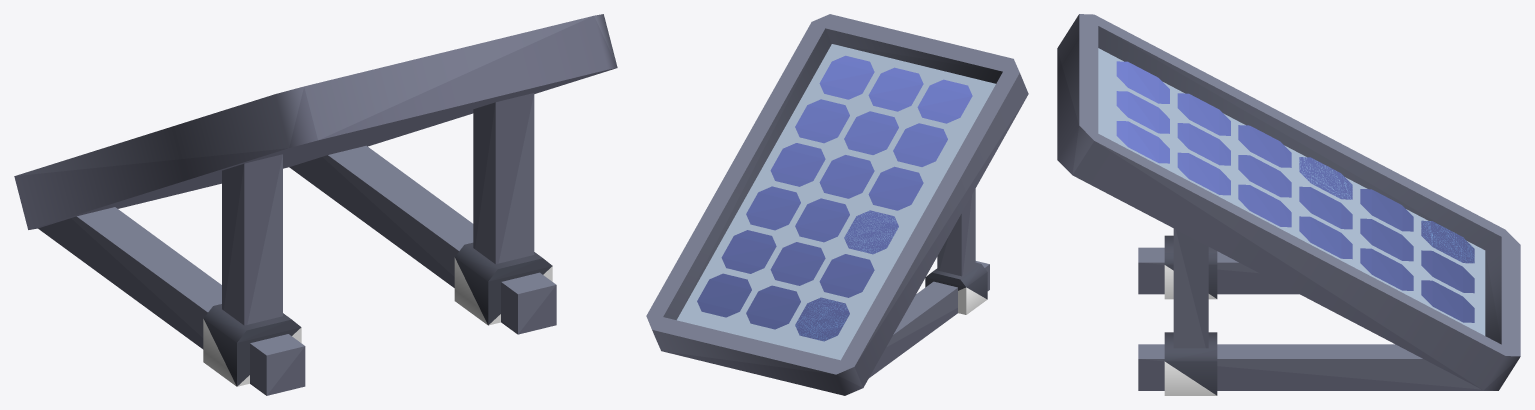
File: solar-panel-portrait.obj
3 views of the same model, side by side, from view 1: azimuth 30°, elevation 25°; view 2: azimuth 150°, elevation 25°; view 3: azimuth 270°, elevation 25° (orthographic). The views are drawn at different scales.
Size of the model in its own units: 0.4182 by 0.41 by 0.6486.
